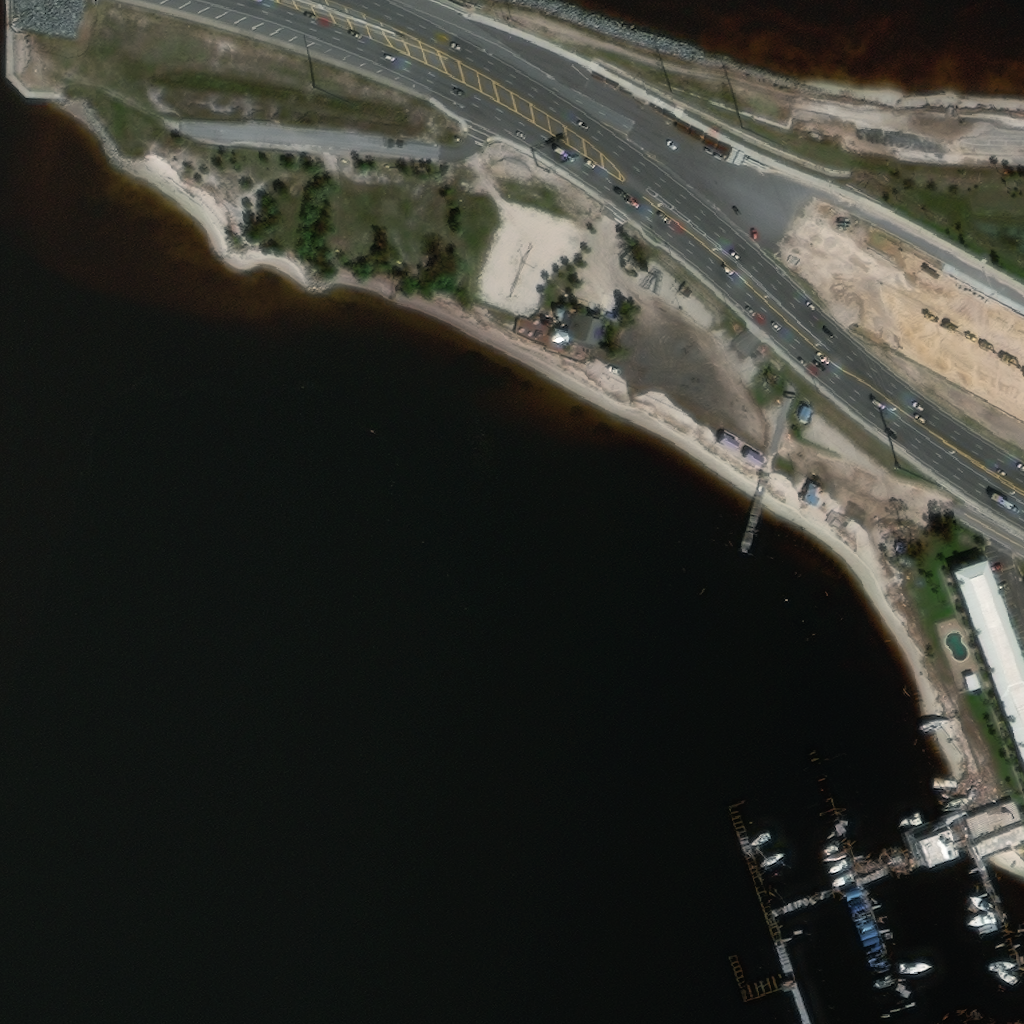major_damage: (909, 801, 1023, 865)
minor_damage: (551, 309, 603, 352)
no_damage: (949, 554, 1023, 766), (731, 330, 764, 362), (799, 482, 825, 509), (718, 434, 740, 453), (963, 673, 982, 693), (744, 450, 764, 467), (797, 405, 813, 422), (780, 980, 795, 992), (887, 543, 898, 556), (737, 446, 747, 456)
